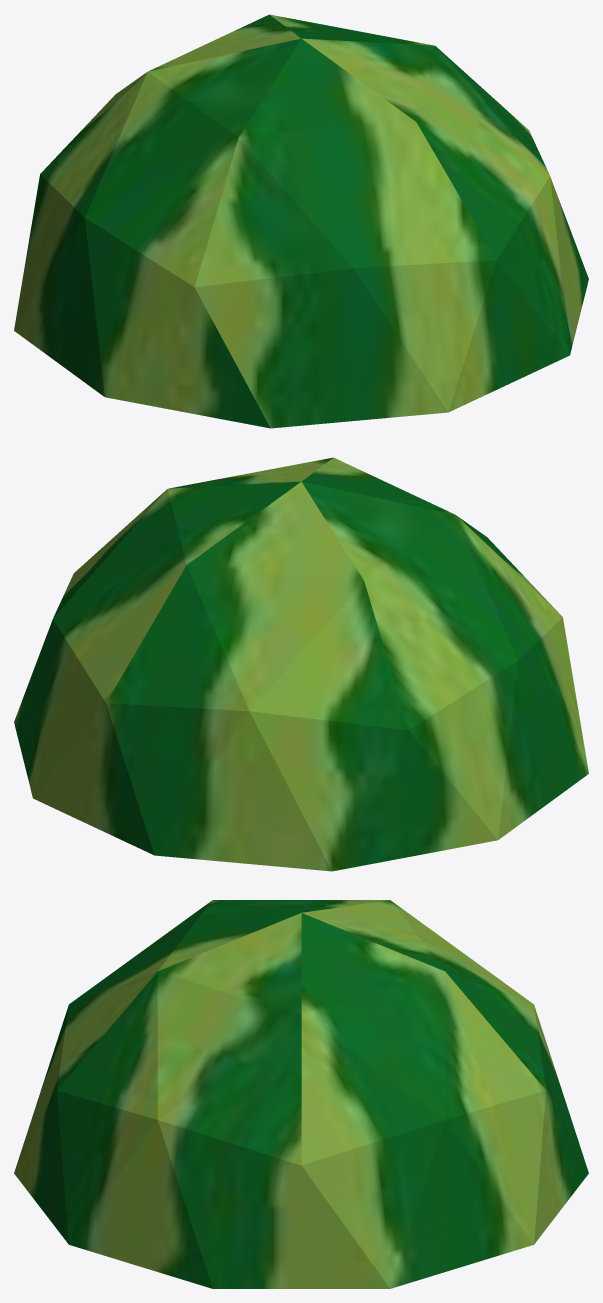
Rendered from waternenm.fbx.
3 views of the same model, one above another, from view 1: azimuth 30°, elevation 25°; view 2: azimuth 150°, elevation 25°; view 3: azimuth 270°, elevation 25° (orthographic). The views are drawn at different scales.
Parts seen in each view (by area): view 1: Icosphere; view 2: Icosphere; view 3: Icosphere.
Boxes of the visible parts, bbox=[...] form: Icosphere: bbox=[14, 14, 588, 428]; Icosphere: bbox=[14, 457, 588, 871]; Icosphere: bbox=[14, 900, 588, 1288].
Size of the model in its own units: 190 by 101 by 200.
